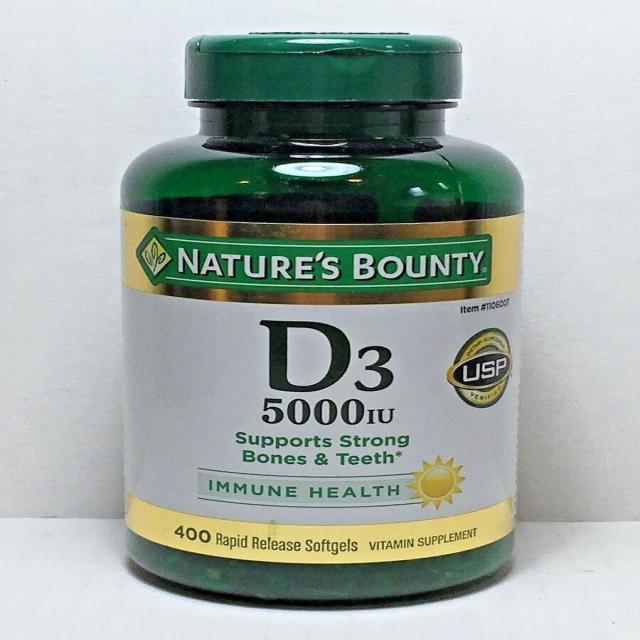medicine: (123, 160, 512, 574)
